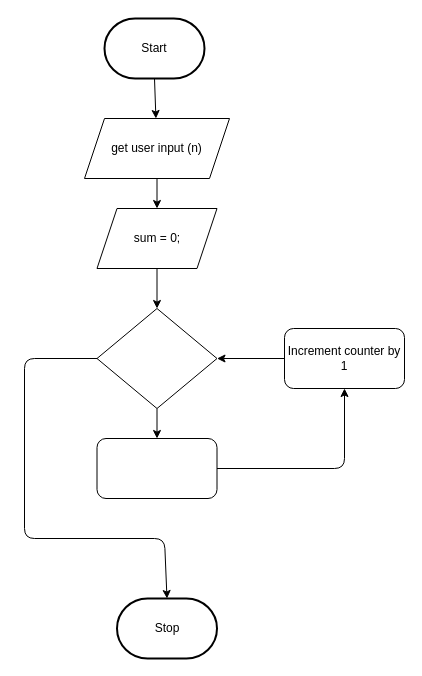
Some shapes in this 422 by 676 pixel diagram are drawn without their labels. Here are the shapes that lost their labels. From the top down, the centre of each, then its label:
At point (156, 358): "counter <= n".
At point (156, 468): "Add counter² to sum".
